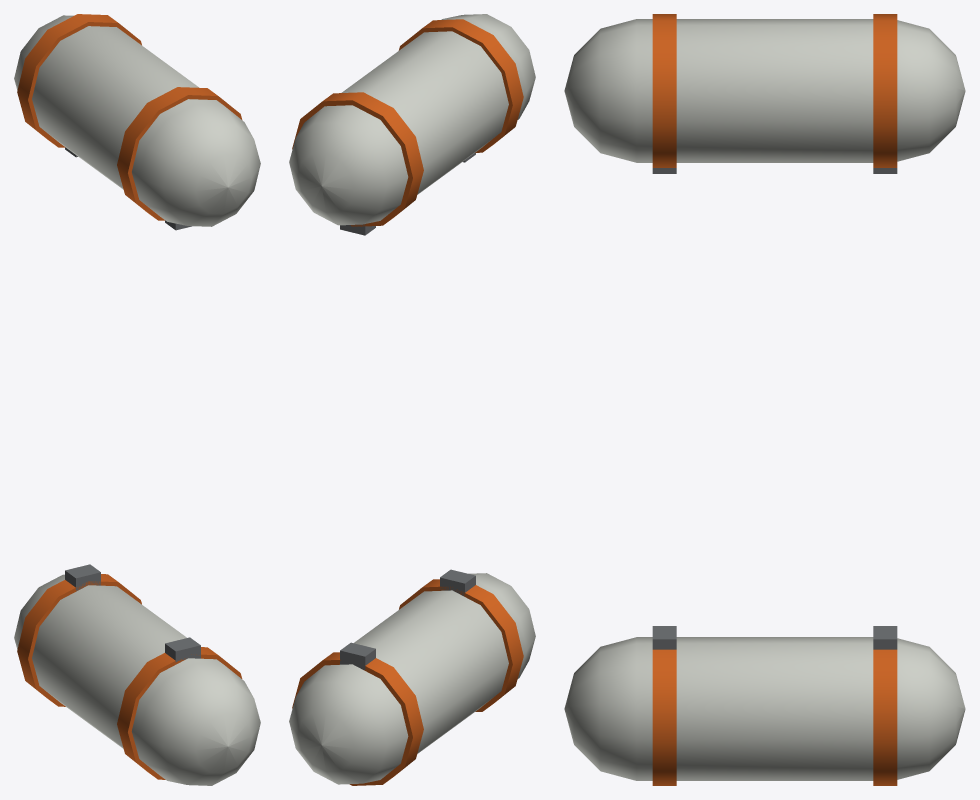
The picture shows the model from 3 angles, left to right: view 1: azimuth 30°, elevation 25°; view 2: azimuth 150°, elevation 25°; view 3: azimuth 270°, elevation 25°; orthographic projection. The views are drawn at different scales.
Visible parts, largest first — view 1: u65m_hx; view 2: u65m_hx; view 3: u65m_hx.
Part boxes in pixels (x1,y1,x2,y2): u65m_hx: (14, 14, 260, 785); u65m_hx: (289, 14, 535, 785); u65m_hx: (564, 14, 965, 785).
Bounding box in the file's own units: 0.77 × 4.17 × 2.
